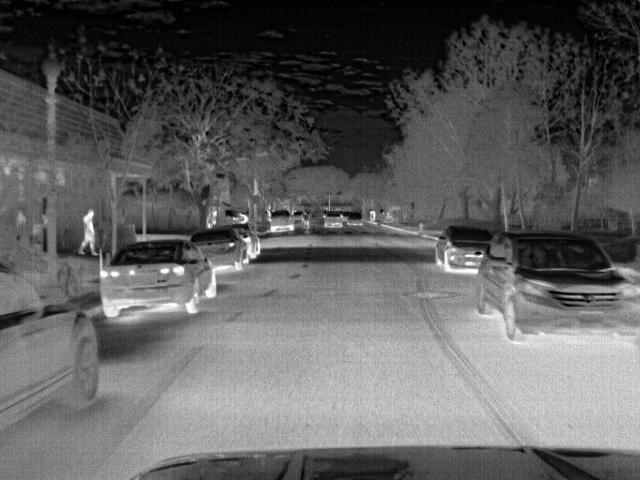car: (2, 266, 104, 444), (474, 233, 639, 341), (97, 238, 219, 319), (432, 225, 496, 273), (189, 230, 248, 272), (226, 227, 262, 261), (267, 210, 296, 235), (291, 210, 311, 232), (322, 211, 343, 229), (345, 211, 367, 227)
person: (74, 209, 98, 257)
